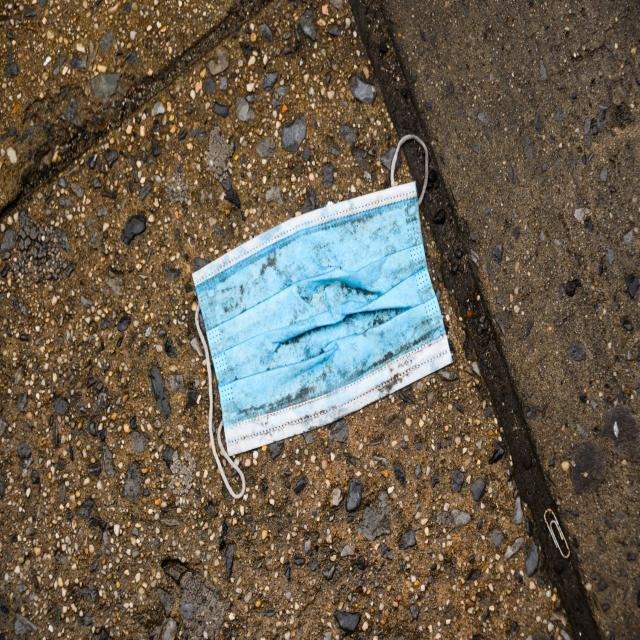face mask: (194, 146, 456, 503)
